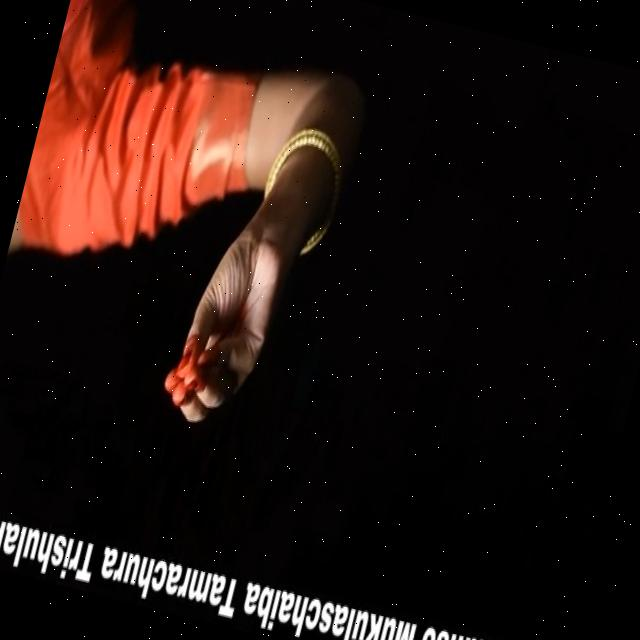Mukula: (136, 204, 302, 471)
bangle: (248, 103, 366, 242)
text: (0, 487, 565, 640)
